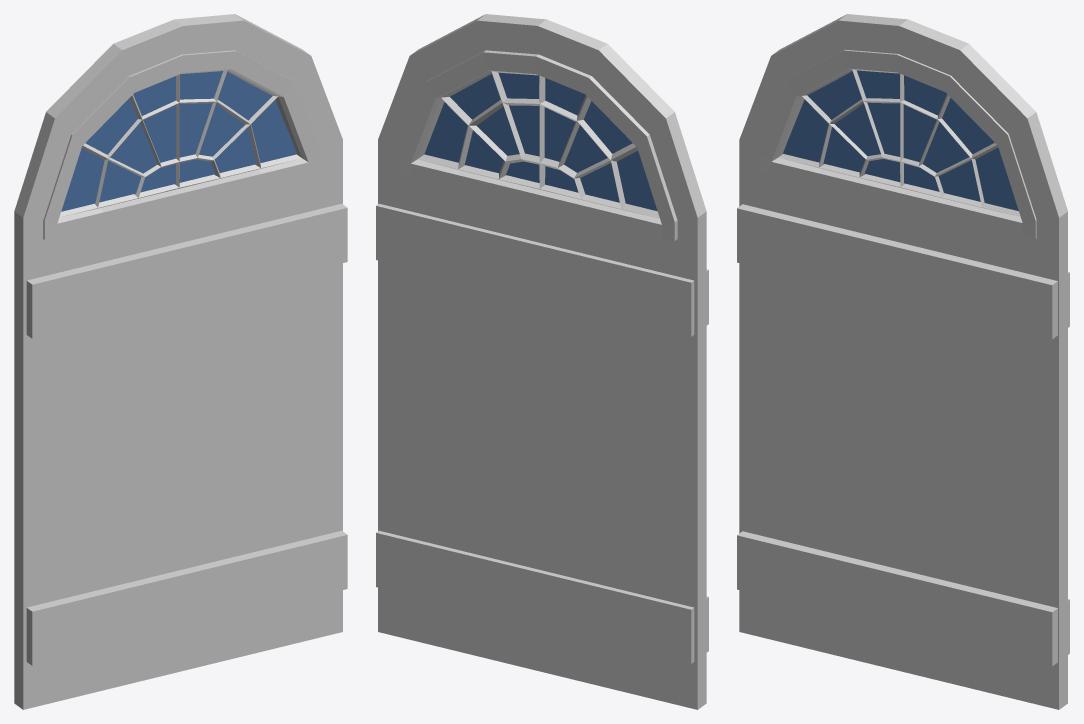
The model's file is Greenhouse Door.fbx.
3 views of the same model, side by side, from view 1: azimuth 30°, elevation 25°; view 2: azimuth 150°, elevation 25°; view 3: azimuth 330°, elevation 25° (orthographic).
Visible parts, largest first — view 1: Greenhouse Door, GlassPaneCurve058, CurvedWindow_FRAME019, WindowFrameCurve019; view 2: Greenhouse Door, GlassPaneCurve058, CurvedWindow_FRAME019, WindowFrameCurve019; view 3: Greenhouse Door, GlassPaneCurve058, CurvedWindow_FRAME019, WindowFrameCurve019.
Part boxes in pixels (x1,y1,x2,y2): Greenhouse Door: (14,14,347,709); GlassPaneCurve058: (61,71,296,211); CurvedWindow_FRAME019: (43,50,321,239); WindowFrameCurve019: (59,70,301,217); Greenhouse Door: (376,14,708,709); GlassPaneCurve058: (424,72,657,211); CurvedWindow_FRAME019: (397,50,677,240); WindowFrameCurve019: (417,71,659,218); Greenhouse Door: (737,14,1069,709); GlassPaneCurve058: (783,70,1018,211); CurvedWindow_FRAME019: (758,49,1036,239); WindowFrameCurve019: (778,69,1020,216).
Size of the model in its own units: 104 by 201 by 9.96.
